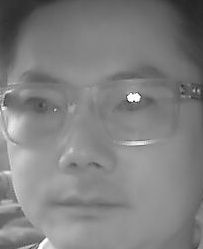eye: (20, 95, 59, 117)
glass: (93, 75, 179, 146), (2, 80, 73, 148)
mouth: (54, 188, 126, 224)
